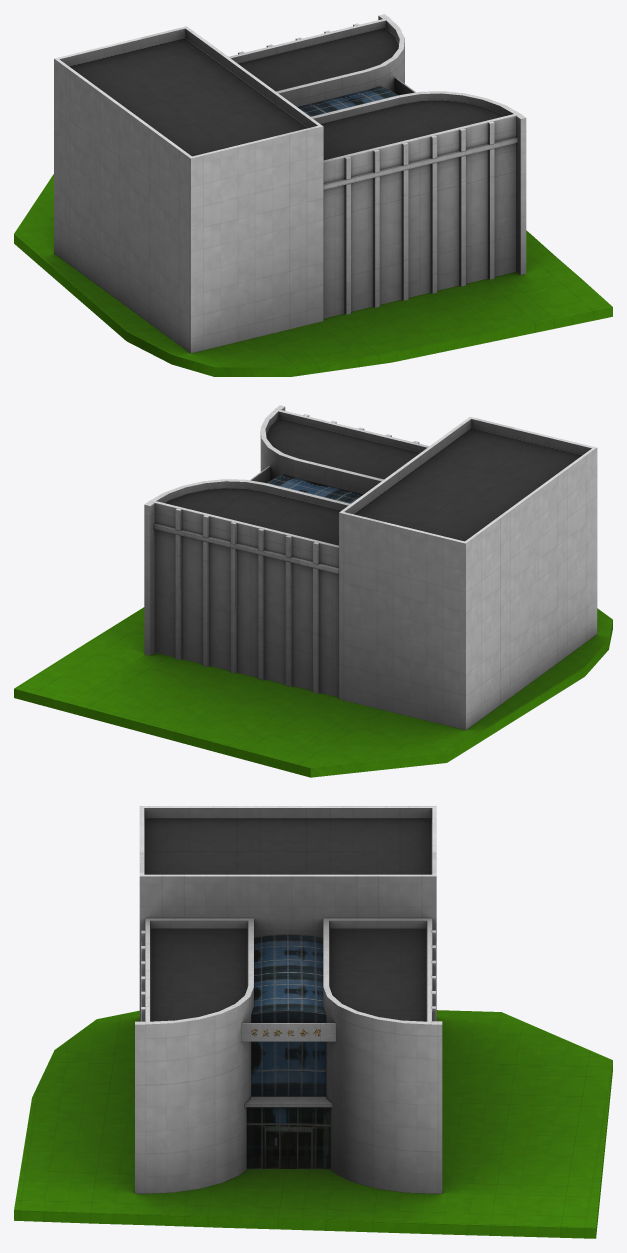
File: sqlgj.gltf
3 renders of one model, top to bottom at view 1: azimuth 30°, elevation 25°; view 2: azimuth 150°, elevation 25°; view 3: azimuth 270°, elevation 25°, orthographic. The views are drawn at different scales.
Parts seen in each view (by area): view 1: polySurface3 group4 polySurface4, polySurface6 polySurface3 group4, group4 pCube37, polySurface3 group4 polySurface5, polySurface3 group4 polySurface11, polySurface3 group4 polySurface14, polySurface3 group4 polySurface7, polySurface3 group4 polySurface17, polySurface3 group4 polySurface15, polySurface3 group4 polySurface13, polySurface3 group4 polySurface12, polySurface3 group4 polySurface16; view 2: polySurface3 group4 polySurface4, group4 pCube37, polySurface3 group4 polySurface5, polySurface6 polySurface3 group4, polySurface3 group4 polySurface19, polySurface3 group4 polySurface7, polySurface3 group4 polySurface21, polySurface3 group4 polySurface23, polySurface3 group4 polySurface20, polySurface3 group4 polySurface18, polySurface3 group4 polySurface24, polySurface3 group4 polySurface22; view 3: group4 pCube37, polySurface3 group4 polySurface4, polySurface3 group4 polySurface5, polySurface6 polySurface3 group4, polySurface3 group4 polySurface7, polySurface3 group4 polySurface8, polySurface3 group4 polySurface9, polySurface3 group4 polySurface10.
Part boxes in pixels (<box>): polySurface3 group4 polySurface4: <box>54,26,323,353</box>; polySurface6 polySurface3 group4: <box>311,91,526,318</box>; group4 pCube37: <box>14,174,612,376</box>; polySurface3 group4 polySurface5: <box>228,14,404,107</box>; polySurface3 group4 polySurface11: <box>323,137,517,189</box>; polySurface3 group4 polySurface14: <box>430,135,437,293</box>; polySurface3 group4 polySurface7: <box>298,86,397,116</box>; polySurface3 group4 polySurface17: <box>344,156,350,314</box>; polySurface3 group4 polySurface15: <box>402,142,408,300</box>; polySurface3 group4 polySurface13: <box>459,128,465,286</box>; polySurface3 group4 polySurface12: <box>488,121,494,279</box>; polySurface3 group4 polySurface16: <box>373,149,379,307</box>; polySurface3 group4 polySurface4: <box>339,416,597,729</box>; group4 pCube37: <box>14,607,612,777</box>; polySurface3 group4 polySurface5: <box>144,479,350,697</box>; polySurface6 polySurface3 group4: <box>260,405,429,494</box>; polySurface3 group4 polySurface19: <box>153,523,338,573</box>; polySurface3 group4 polySurface7: <box>267,474,362,503</box>; polySurface3 group4 polySurface21: <box>230,521,236,673</box>; polySurface3 group4 polySurface23: <box>285,535,291,686</box>; polySurface3 group4 polySurface20: <box>203,515,209,666</box>; polySurface3 group4 polySurface18: <box>175,508,181,659</box>; polySurface3 group4 polySurface24: <box>313,542,319,693</box>; polySurface3 group4 polySurface22: <box>258,528,264,680</box>; group4 pCube37: <box>14,1010,612,1238</box>; polySurface3 group4 polySurface4: <box>139,806,436,1021</box>; polySurface3 group4 polySurface5: <box>323,918,442,1193</box>; polySurface6 polySurface3 group4: <box>135,918,253,1193</box>; polySurface3 group4 polySurface7: <box>251,935,326,1096</box>; polySurface3 group4 polySurface8: <box>246,1107,330,1168</box>; polySurface3 group4 polySurface9: <box>241,1023,336,1041</box>; polySurface3 group4 polySurface10: <box>244,1096,332,1107</box>.
Size of the model in its own units: 4.01 by 1.85 by 4.52.
Materials: 1 (1 with a texture image).
